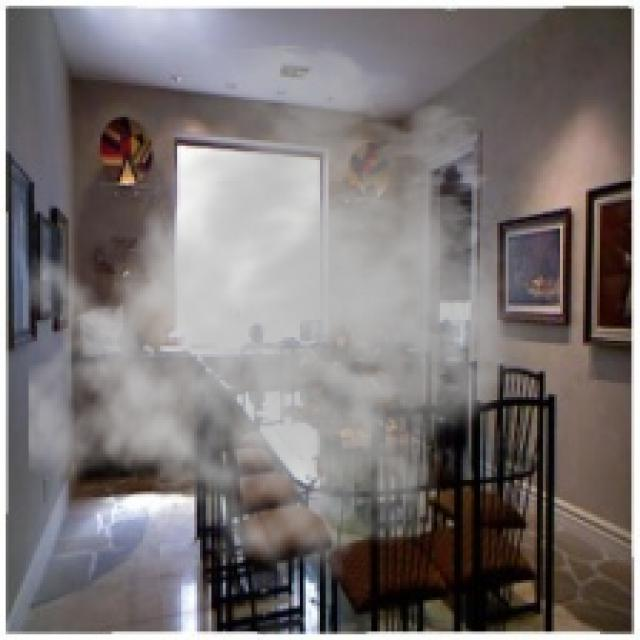smoke: (29, 43, 557, 586)
